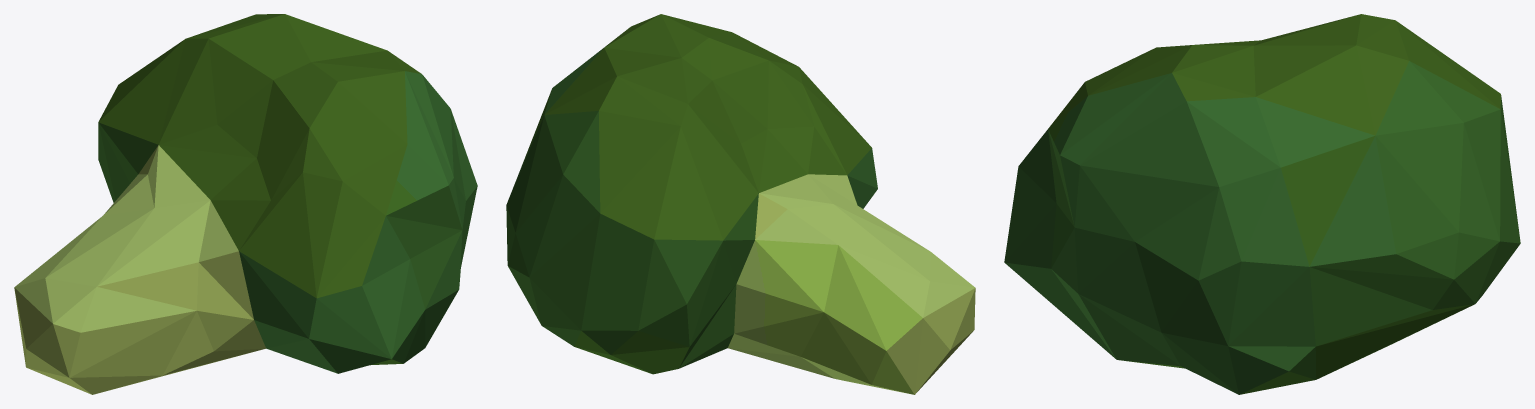
Rendered from broccoli.glb.
3 renders of one model, left to right at view 1: azimuth 30°, elevation 25°; view 2: azimuth 150°, elevation 25°; view 3: azimuth 270°, elevation 25°, orthographic. The views are drawn at different scales.
Visible parts, largest first — view 1: world; view 2: world; view 3: world.
Boxes of the visible parts, x1,y1,x2,y2 form: world: (14, 14, 477, 394); world: (506, 14, 975, 394); world: (1004, 14, 1520, 394).
Bounding box in the file's own units: 0.0535 × 0.034 × 0.05.
1 material, 1 textured.
